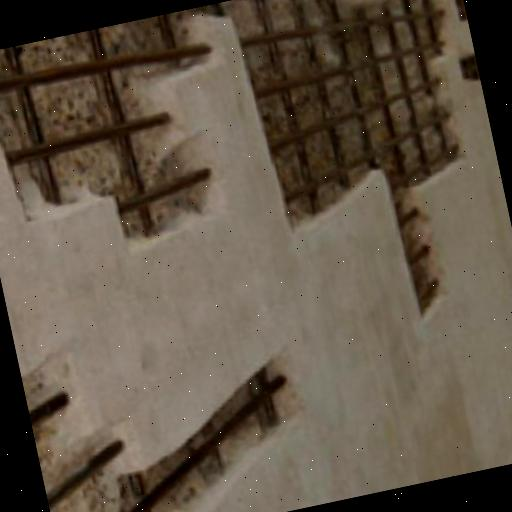spalling: (0, 0, 463, 313), (21, 348, 303, 512)
